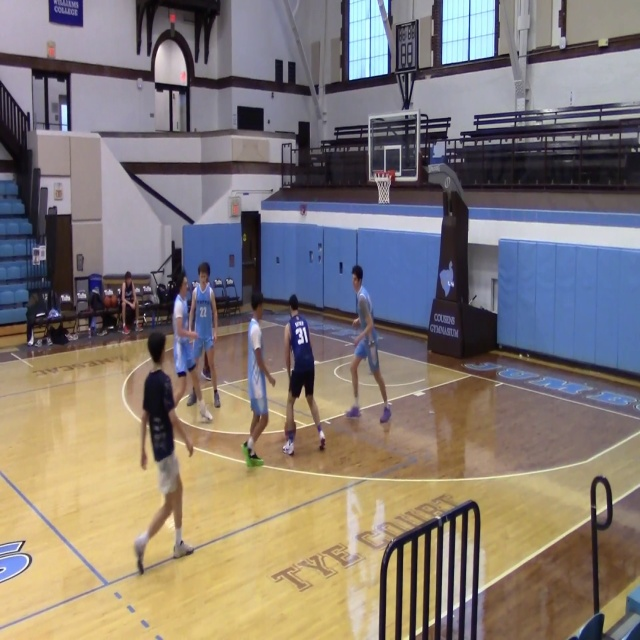Basketball: (102, 289, 117, 308), (103, 295, 117, 308)
